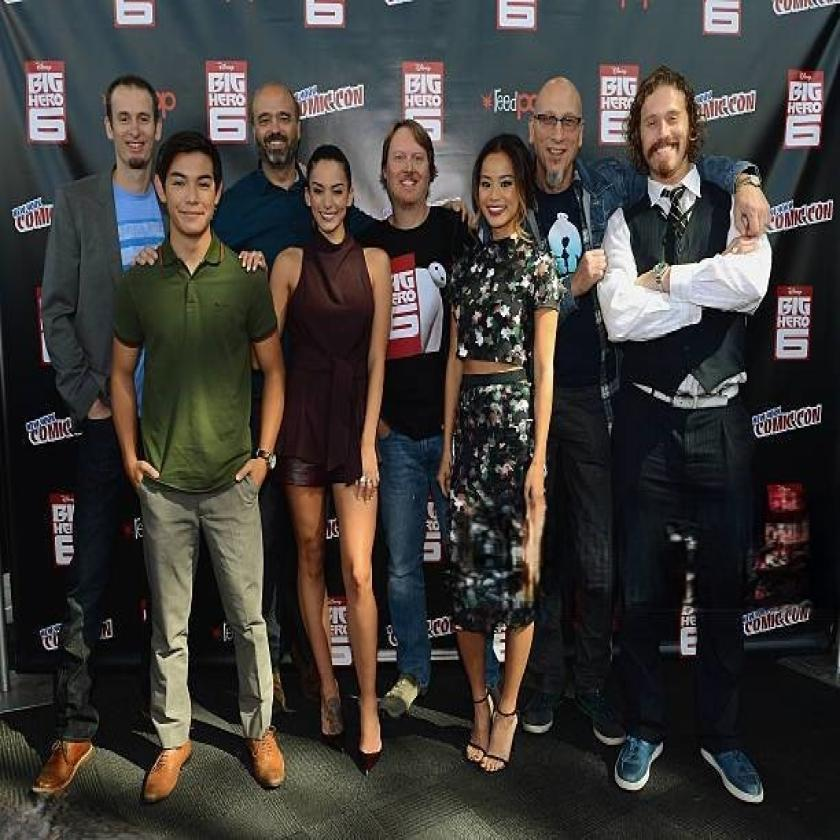Sin_casco: (626, 59, 711, 170), (155, 137, 228, 243), (376, 108, 444, 218), (471, 122, 535, 232), (538, 71, 599, 182), (94, 61, 158, 166), (250, 61, 306, 175), (306, 140, 354, 243)
